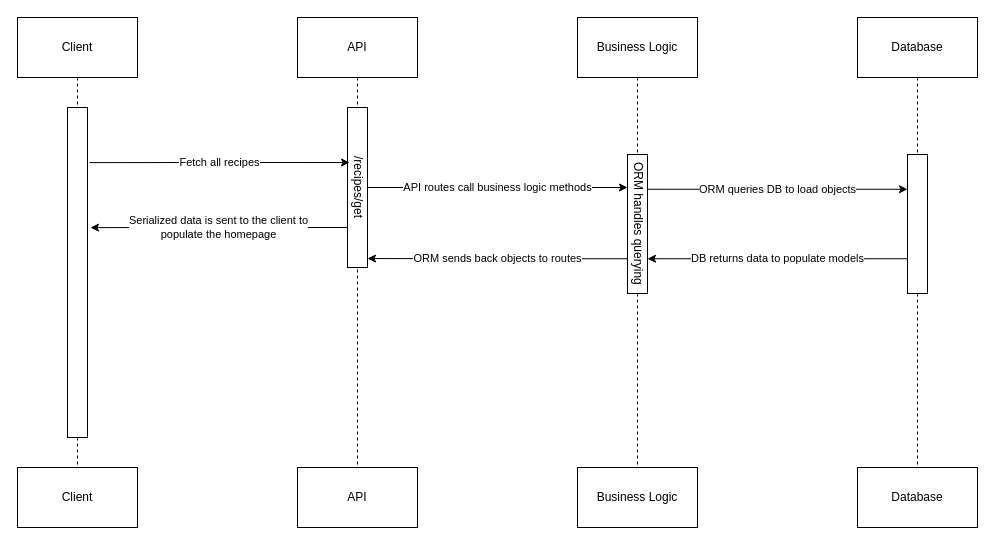
Image size: 995x545. Some labels were removed from this diagram. Each missing label, with the box of its shape:
Home Page: (66, 106, 88, 438)
recipes table: (906, 154, 928, 294)
